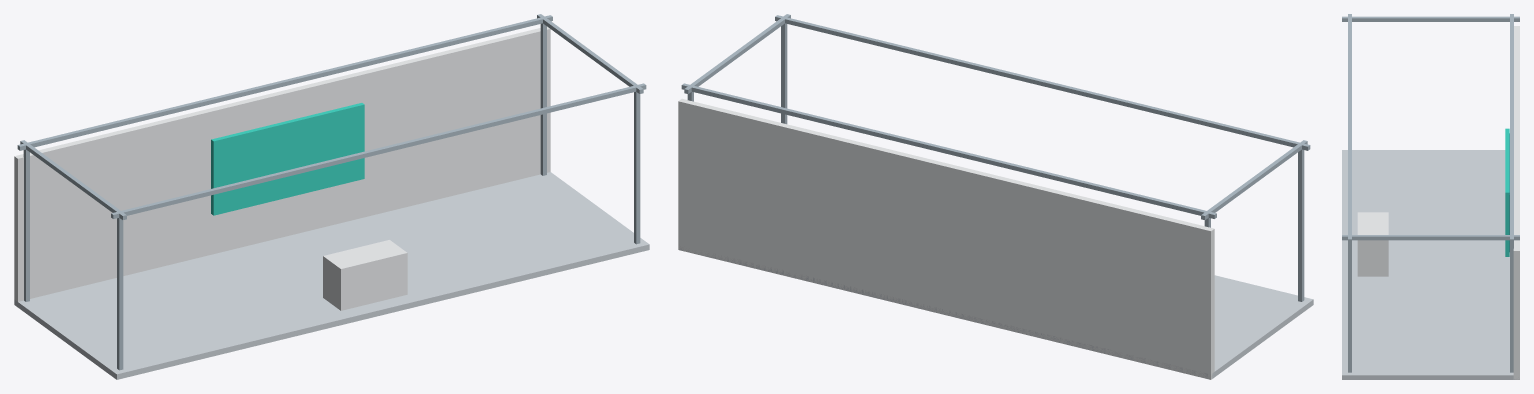
3 renders of one model, left to right at view 1: azimuth 30°, elevation 25°; view 2: azimuth 150°, elevation 25°; view 3: azimuth 270°, elevation 25°, orthographic. The views are drawn at different scales.
Parts seen in each view (by area): view 1: Exhibition Booth Concept; view 2: Exhibition Booth Concept; view 3: Exhibition Booth Concept.
Part boxes in pixels (bbox=[...]): Exhibition Booth Concept: bbox=[14, 14, 649, 379]; Exhibition Booth Concept: bbox=[678, 14, 1313, 379]; Exhibition Booth Concept: bbox=[1342, 14, 1519, 379].
Bounding box in the file's own units: 12 × 3.49 × 4.
